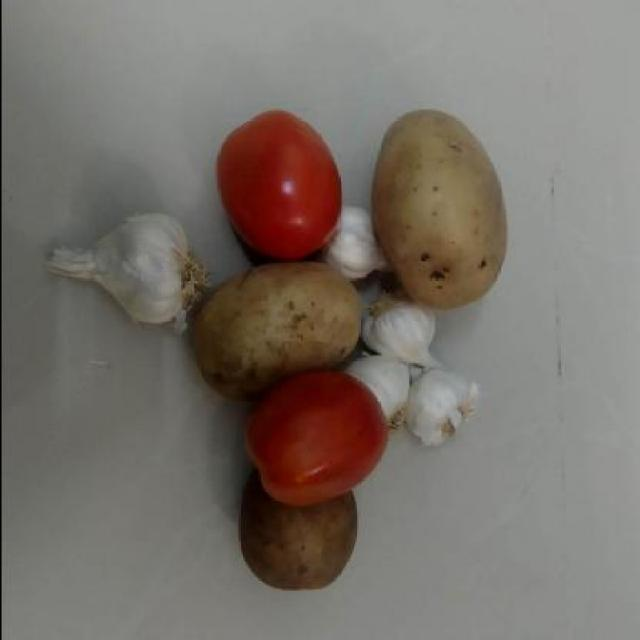Garlic: (37, 218, 200, 326), (403, 368, 483, 448), (354, 296, 431, 370)
Potato: (370, 100, 512, 314), (192, 257, 352, 408), (242, 495, 362, 608)
Tomato: (211, 98, 346, 264), (248, 368, 392, 510)
